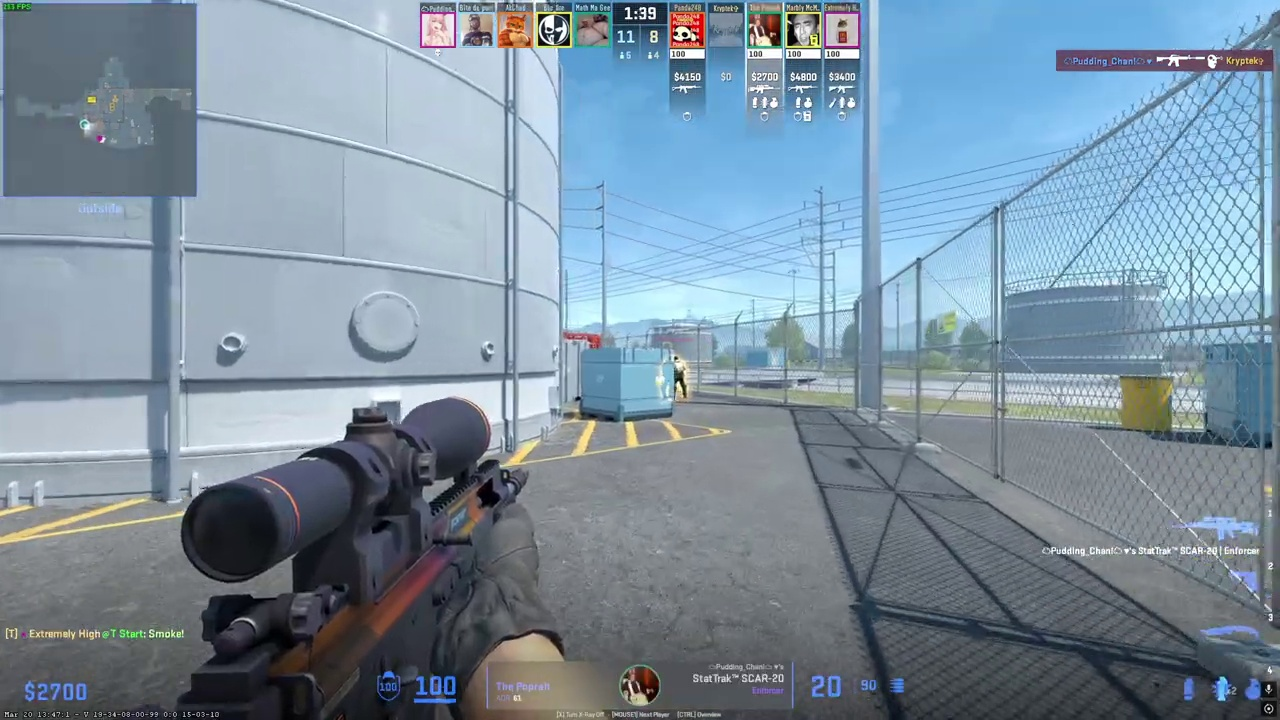Terrorist: (673, 356, 687, 398)
